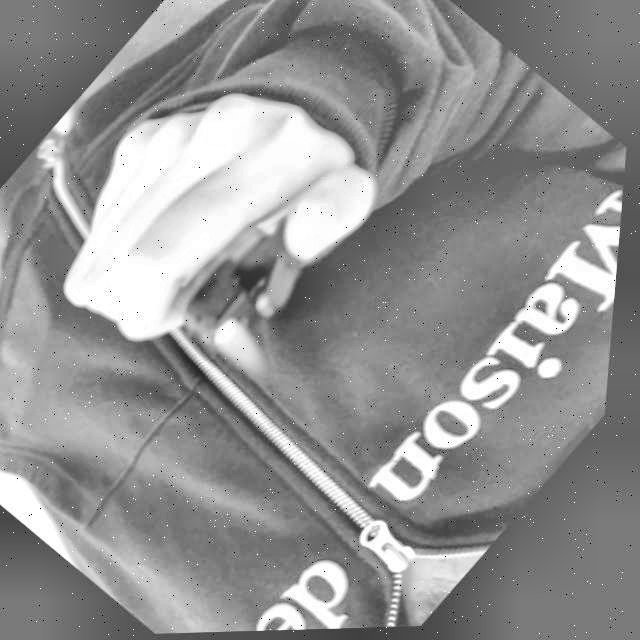Fire: (208, 314, 290, 388)
